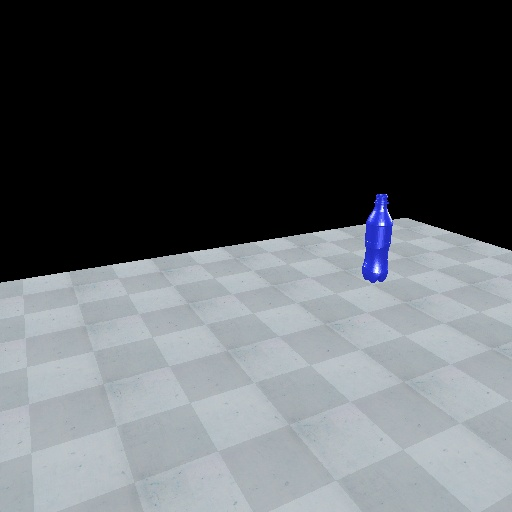bottle: (359, 190, 396, 284)
